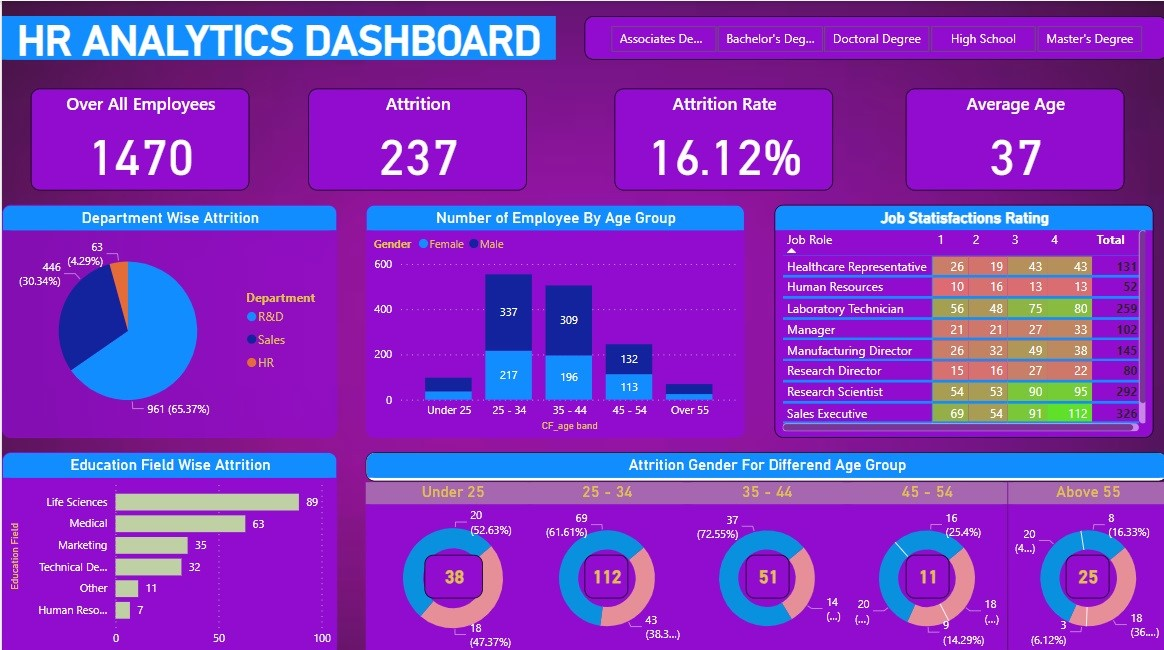

This screenshot's page, from the dashboard's own definition file:
{"tool":"powerbi","page":{"name":"Page 1","canvas":[1280,720],"ordinal":0},"visuals":[{"type":"card","title":"Over All Employees","fields":{"Values":["Sum(HR data.Employee Count)"]},"box":[0,96,240,110],"z":0},{"type":"card","title":"Attrition","fields":{"Values":["Sum(HR data.Attriton Column)"]},"box":[256,96,240,112],"z":1000},{"type":"card","title":"Attrition Rate","fields":{"Values":["HR data.Attrition Rate"]},"box":[512,96,240,112],"z":2000},{"type":"card","title":"Average Age","fields":{"Values":["Avg(HR data.Age)"]},"box":[1024,96,240,112],"z":3000},{"type":"pieChart","title":" Department Wise Attrition","fields":{"Category":["HR data.Department"],"Y":["Sum(HR data.Employee Count)"]},"box":[0,224,368,256],"z":4000},{"type":"columnChart","title":"Number of Employee By Age Group","fields":{"Category":["HR data.CF_age band"],"Y":["Sum(HR data.Employee Count)"],"Series":["HR data.Gender"]},"box":[400,224,416,256],"z":5000},{"type":"pivotTable","title":"Job Statisfactions Rating","fields":{"Rows":["HR data.Job Role"],"Columns":["HR data.Job Satisfaction"],"Values":["Sum(HR data.Employee Count)"]},"box":[848,224,416,256],"z":6000},{"type":"barChart","title":"Education Field Wise Attrition","fields":{"Category":["HR data.Education Field"],"Y":["Sum(HR data.Attriton Count)"]},"box":[0,496,368,224],"z":7000},{"type":"donutChart","title":"Under 25","fields":{"Category":["HR data.Gender"],"Y":["Sum(HR data.Attriton Count)"],"Series":["HR data.CF_age band"]},"box":[400,528,192,192],"z":8000},{"type":"textbox","title":"Attrition Gender For Differend Age Group","box":[400,496,880,32],"z":9000},{"type":"donutChart","title":" 25 - 34","fields":{"Category":["HR data.Gender"],"Y":["Sum(HR data.Attriton Count)"],"Series":["HR data.CF_age band"]},"box":[576,528,176,192],"z":10000},{"type":"donutChart","title":"35 - 44","fields":{"Category":["HR data.Gender"],"Y":["Sum(HR data.Attriton Count)"],"Series":["HR data.CF_age band"]},"box":[752,528,176,192],"z":11000},{"type":"donutChart","title":"45 - 54","fields":{"Category":["HR data.Gender"],"Y":["Sum(HR data.Attriton Count)"],"Series":["HR data.CF_age band"]},"box":[928,528,176,192],"z":12000},{"type":"donutChart","title":"Above 55","fields":{"Category":["HR data.Gender"],"Y":["Sum(HR data.Attriton Count)"],"Series":["HR data.CF_age band"]},"box":[1104,528,176,192],"z":13000},{"type":"card","title":"Attrition","fields":{"Values":["Sum(HR data.Attriton Count)"]},"box":[464,608,64,48],"z":14000},{"type":"card","title":"Attrition","fields":{"Values":["Sum(HR data.Attriton Count)"]},"box":[640,608,48,48],"z":15000},{"type":"card","title":"Attrition","fields":{"Values":["Sum(HR data.Attriton Count)"]},"box":[816,608,48,48],"z":16000},{"type":"card","title":"Attrition","fields":{"Values":["Sum(HR data.Attriton Count)"]},"box":[1168,608,48,48],"z":17000},{"type":"card","title":"Attrition","fields":{"Values":["Sum(HR data.Attriton Count)"]},"box":[992,608,48,48],"z":18000},{"type":"card","title":"Attrition","fields":{"Values":["Sum(HR data.Attriton Column)"]},"box":[768,96,240,112],"z":19000},{"type":"textbox","title":"HR ANALYTICS DASHBOARD","box":[0,16,608,48],"z":20000},{"type":"slicer","fields":{"Values":["HR data.Education"]},"box":[640,16,640,48],"z":21000}]}

Visuals, with their boxes in screenshot pixels (x1, y1, x2, y2), scaled from the page's 1280x720 canvas onto the 1164x650 screenshot:
"Over All Employees" card: <box>0,87,218,186</box>
"Attrition" card: <box>233,87,451,188</box>
"Attrition Rate" card: <box>466,87,684,188</box>
"Average Age" card: <box>931,87,1149,188</box>
" Department Wise Attrition" pieChart: <box>0,202,335,433</box>
"Number of Employee By Age Group" columnChart: <box>364,202,742,433</box>
"Job Statisfactions Rating" pivotTable: <box>771,202,1149,433</box>
"Education Field Wise Attrition" barChart: <box>0,448,335,649</box>
"Under 25" donutChart: <box>364,477,538,649</box>
"Attrition Gender For Differend Age Group" textbox: <box>364,448,1163,477</box>
" 25 - 34" donutChart: <box>524,477,684,649</box>
"35 - 44" donutChart: <box>684,477,844,649</box>
"45 - 54" donutChart: <box>844,477,1004,649</box>
"Above 55" donutChart: <box>1004,477,1163,649</box>
"Attrition" card: <box>422,549,480,592</box>
"Attrition" card: <box>582,549,626,592</box>
"Attrition" card: <box>742,549,786,592</box>
"Attrition" card: <box>1062,549,1106,592</box>
"Attrition" card: <box>902,549,946,592</box>
"Attrition" card: <box>698,87,917,188</box>
"HR ANALYTICS DASHBOARD" textbox: <box>0,14,553,58</box>
slicer - HR data.Education: <box>582,14,1163,58</box>
